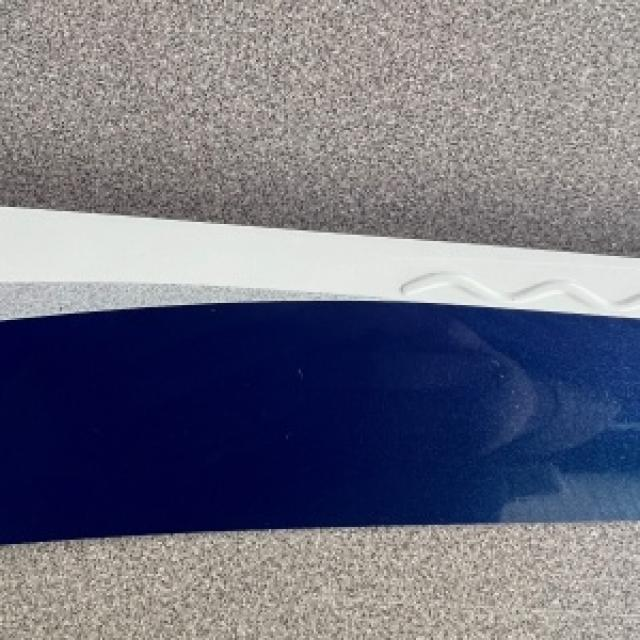healthy: (0, 205, 638, 542)
